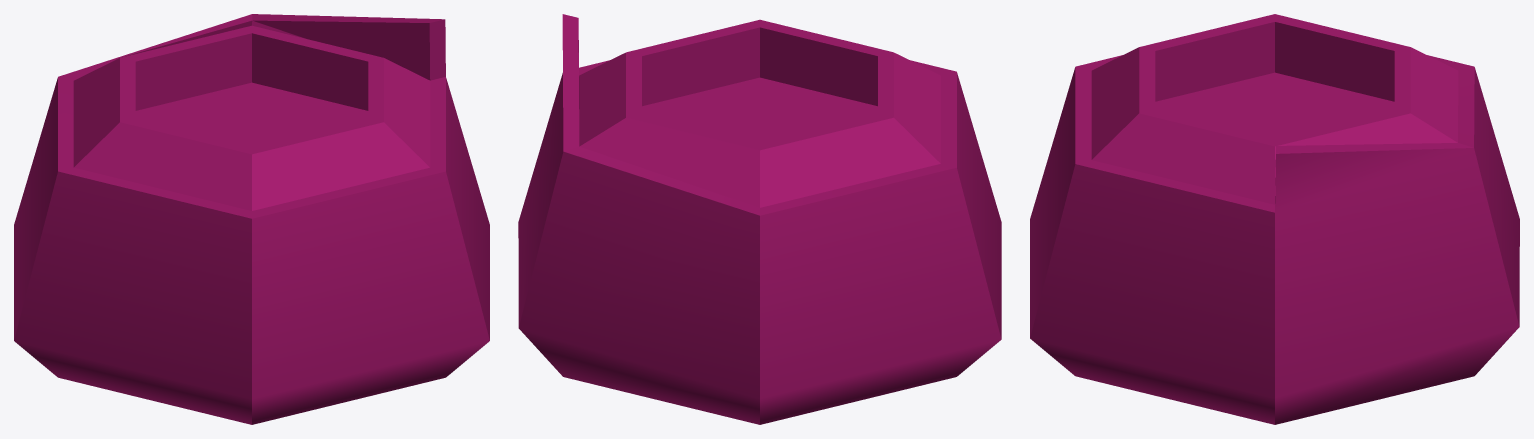
File: Rose_Center.fbx
3 views of the same model, side by side, from view 1: azimuth 30°, elevation 25°; view 2: azimuth 150°, elevation 25°; view 3: azimuth 270°, elevation 25° (orthographic). The views are drawn at different scales.
Parts seen in each view (by area): view 1: Rose_Center; view 2: Rose_Center; view 3: Rose_Center.
Boxes of the visible parts, x1,y1,x2,y2 form: Rose_Center: (14, 14, 489, 424); Rose_Center: (518, 14, 1001, 424); Rose_Center: (1030, 14, 1519, 424).
Size of the model in its own units: 10.54 by 5.57 by 9.13.
